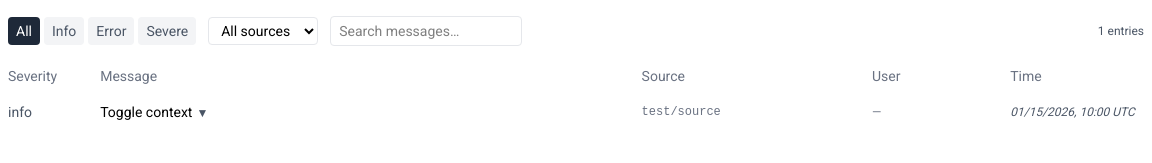
Test case: LogViewer › collapses context row on second click
Click the text "Toggle context": (146, 112) top-left (100, 104), bottom-right (192, 120)
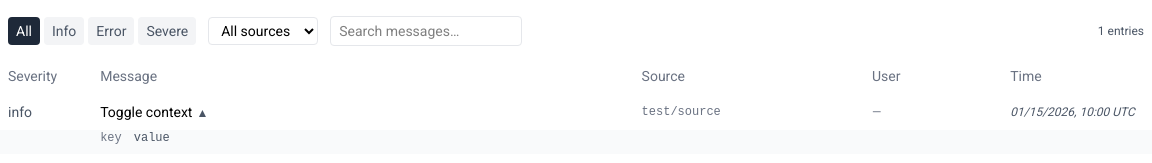
Expected: the text "key" is shown, top-left (100, 130), bottom-right (122, 146)
Click the text "Toggle context": (146, 112) top-left (100, 104), bottom-right (192, 120)
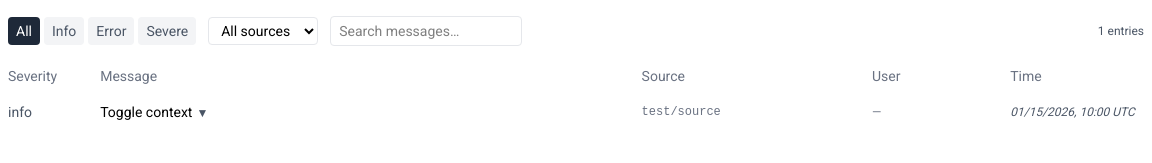
Expected: the text "key" is gone
